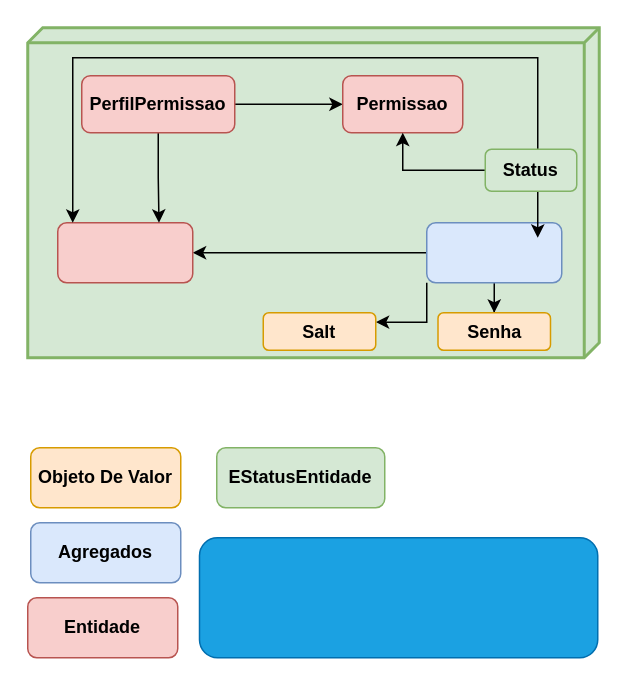
Some shapes in this 626 by 684 pixel diagram are drawn without their labels. The box of each missing label's shape, as (x1, y1, x2, y2) in pixels:
Acesso: (26, 26, 600, 358)
Exemplo quem tem Id da outra Tabela aponta a flecha. Ex: Pessoa tem Usuario: (198, 536, 598, 658)
Perfil: (56, 221, 193, 283)
Usuario: (425, 221, 562, 283)
